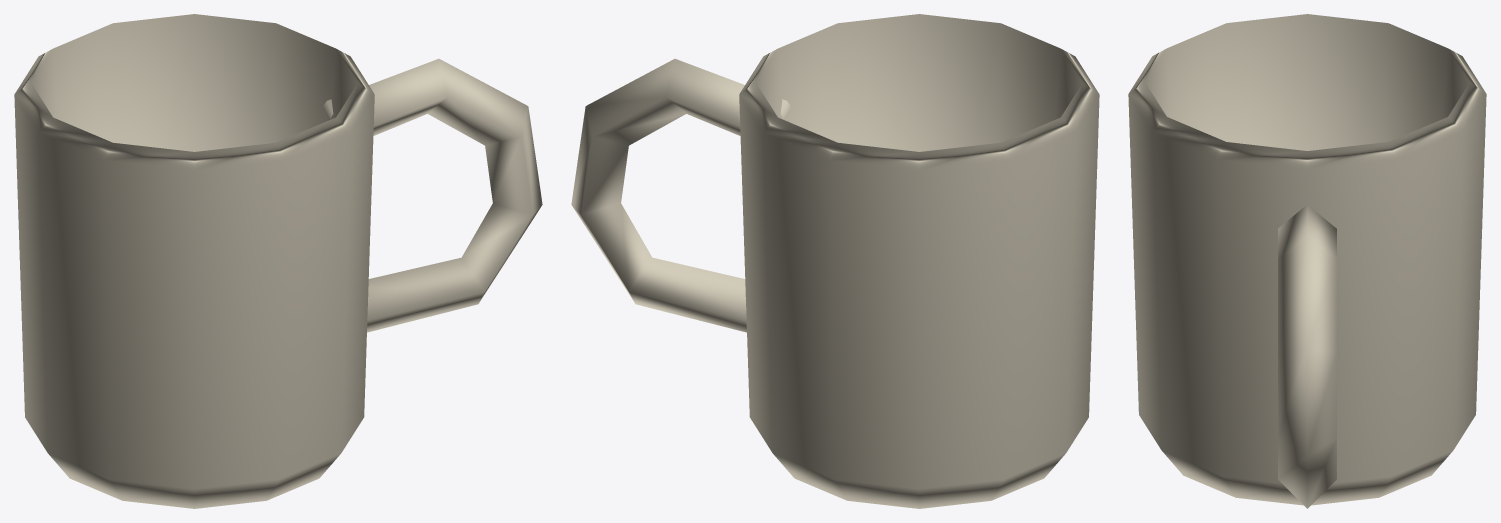
The model's file is Diner_Coffee_Mug.fbx.
The picture shows the model from 3 angles, left to right: view 1: azimuth 30°, elevation 25°; view 2: azimuth 150°, elevation 25°; view 3: azimuth 270°, elevation 25°; orthographic projection.
Visible parts, largest first — view 1: Diner_Coffee_Mug; view 2: Diner_Coffee_Mug; view 3: Diner_Coffee_Mug.
Boxes of the visible parts, x1,y1,x2,y2 form: Diner_Coffee_Mug: [14, 14, 542, 508]; Diner_Coffee_Mug: [571, 14, 1099, 508]; Diner_Coffee_Mug: [1128, 14, 1486, 508].
Bounding box in the file's own units: 0.1373 × 0.095 × 0.085.
